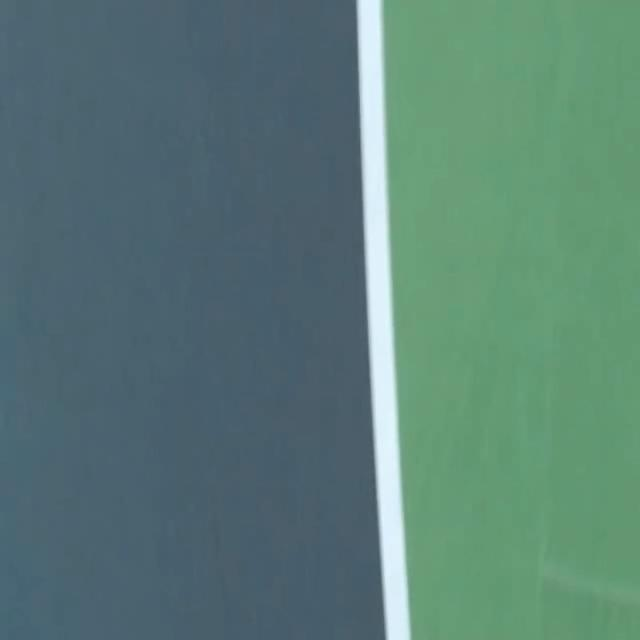right: (356, 0, 411, 639)
